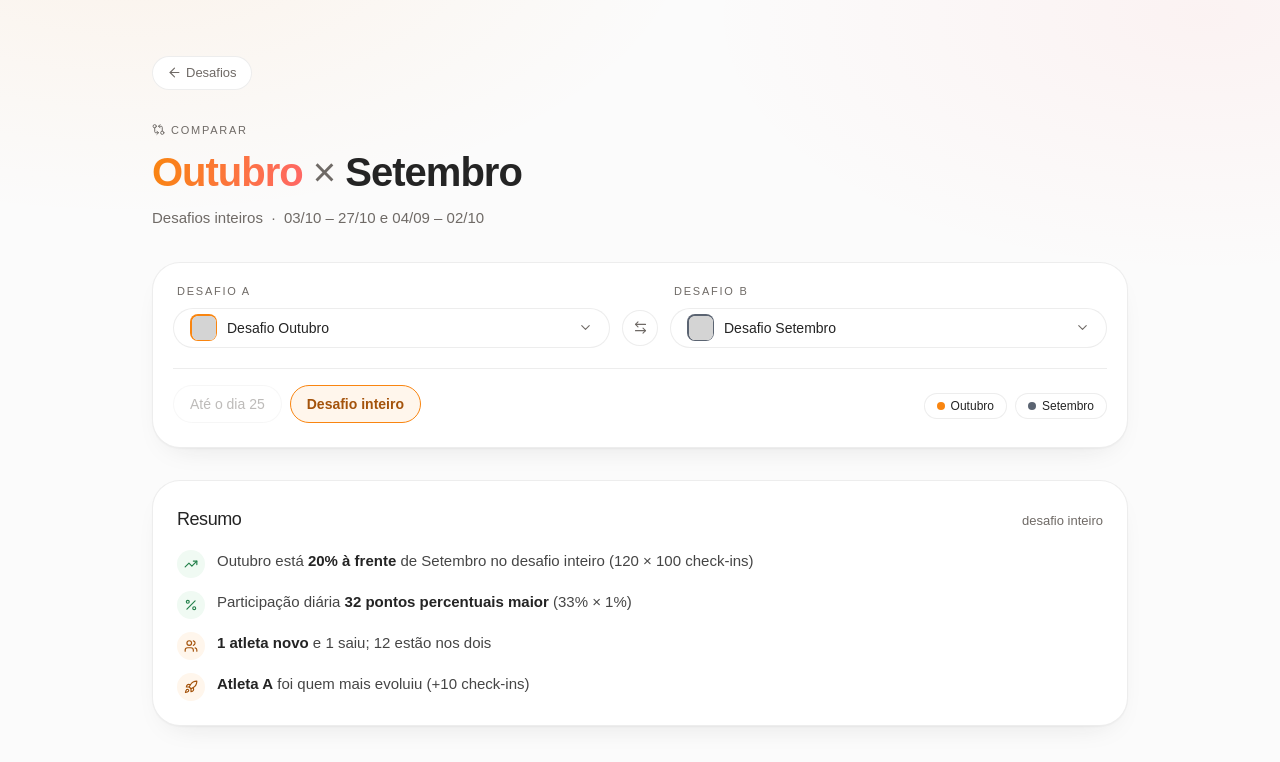
Test: ComparePage › disables dia mode when the API does not echo the cut-off
The image size is (1280, 762).
Hover over the element showing "Até o dia 25" at [227, 404], box [173, 385, 282, 423]
(page scrolled)
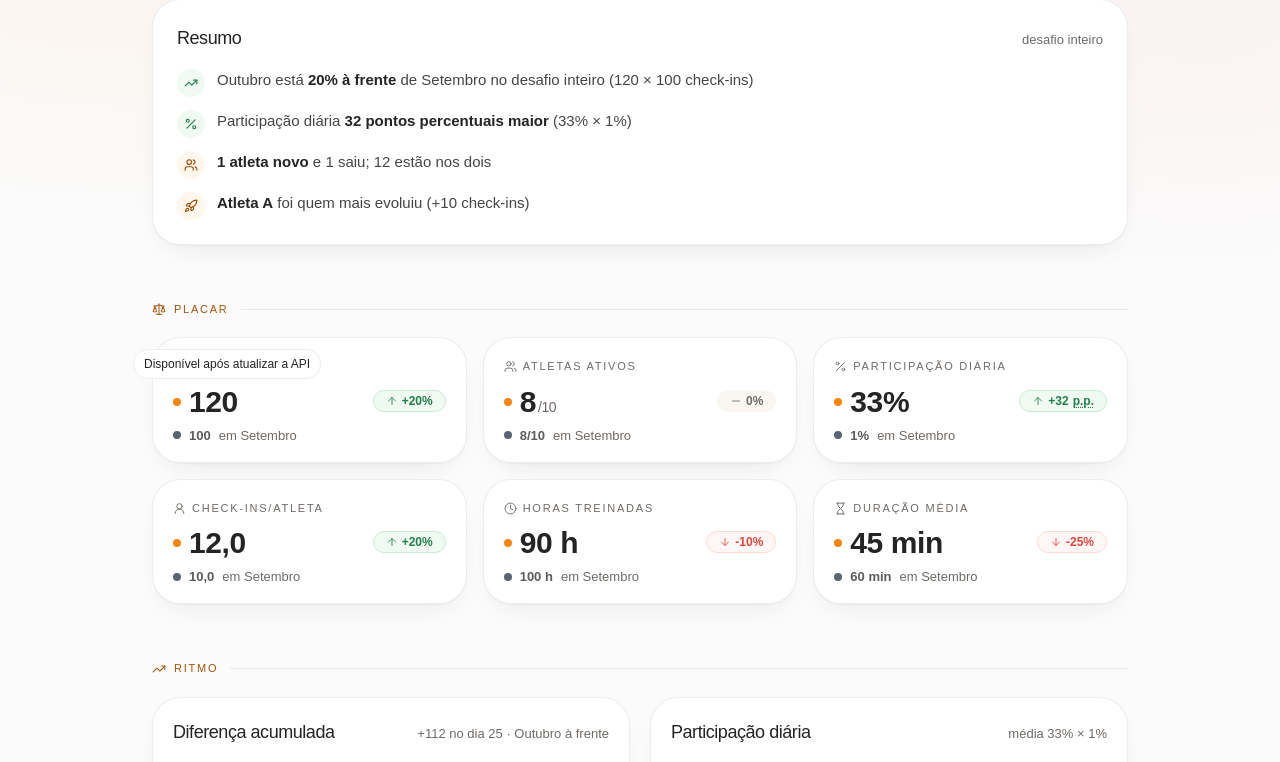
expect the list item with aria-label "Check-ins:" is shown: met, box [152, 337, 467, 463]
expect the tooltip "Disponível após atualizar a API" is shown: met, box [133, 349, 321, 379]
